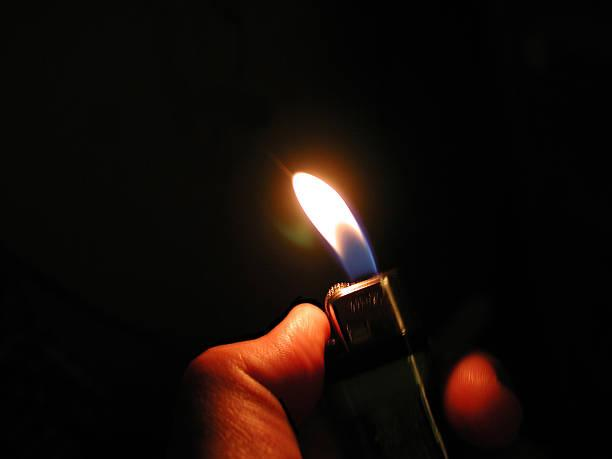Fire: (279, 162, 382, 276)
